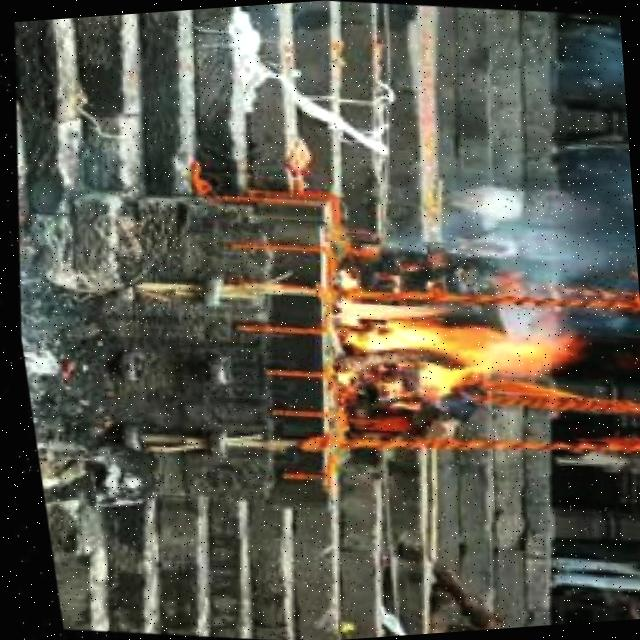fire: (310, 272, 574, 420)
